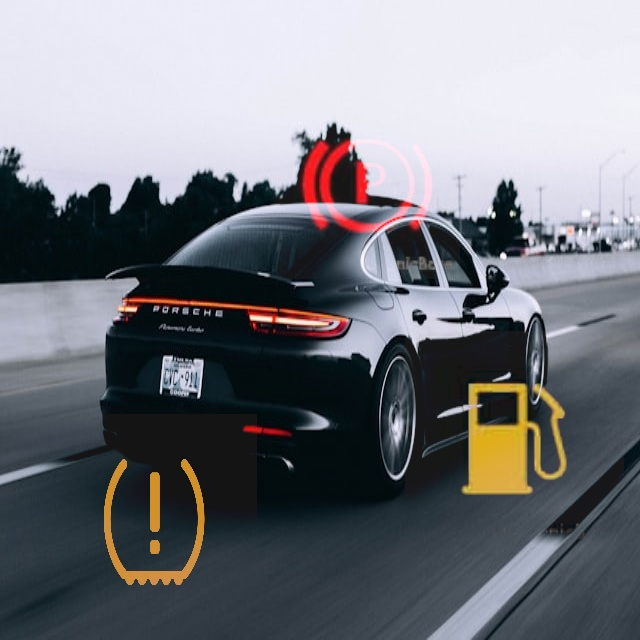symbol: (405, 331, 624, 550), (51, 414, 257, 620), (275, 94, 460, 279)
